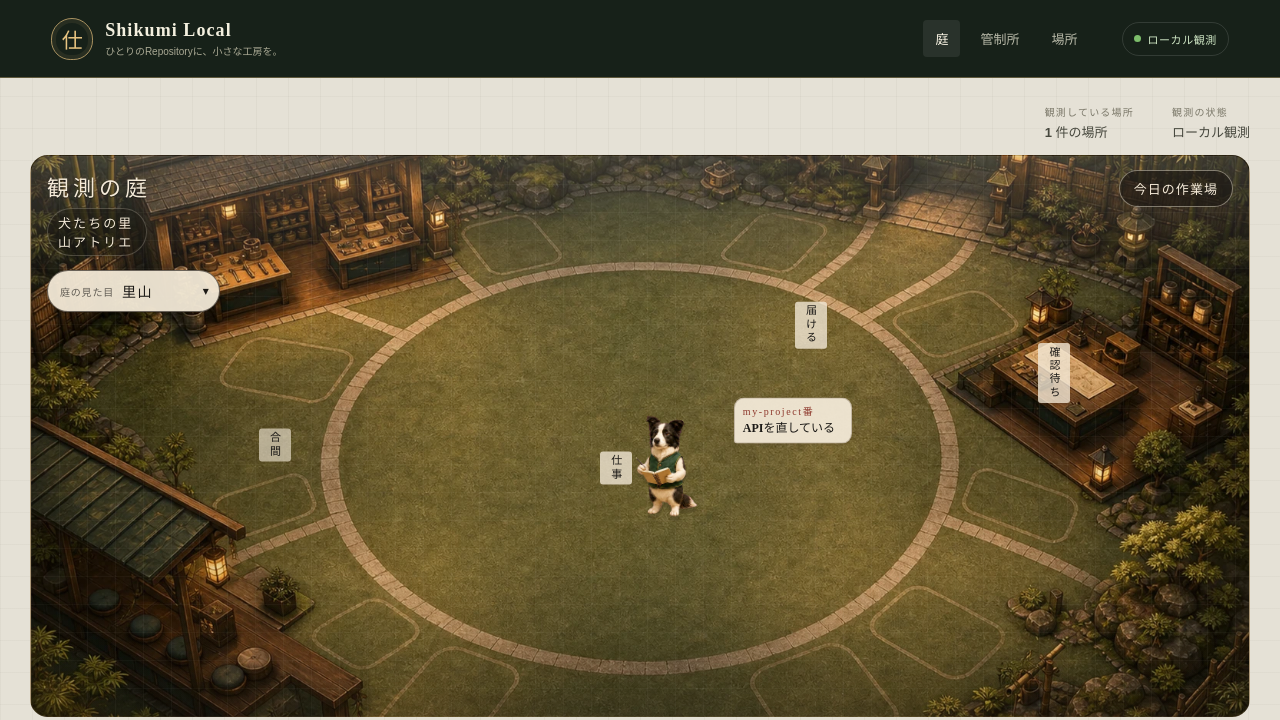
Shikumi Local garden › renders the mocked overview on the observation garden
Expected: the heading "観測の庭" is shown, [47, 176, 151, 201]
Expected: the text "my-project番" is shown, [743, 405, 814, 416]
Click the 7th button. click: (676, 462)
box: [616, 402, 736, 522]
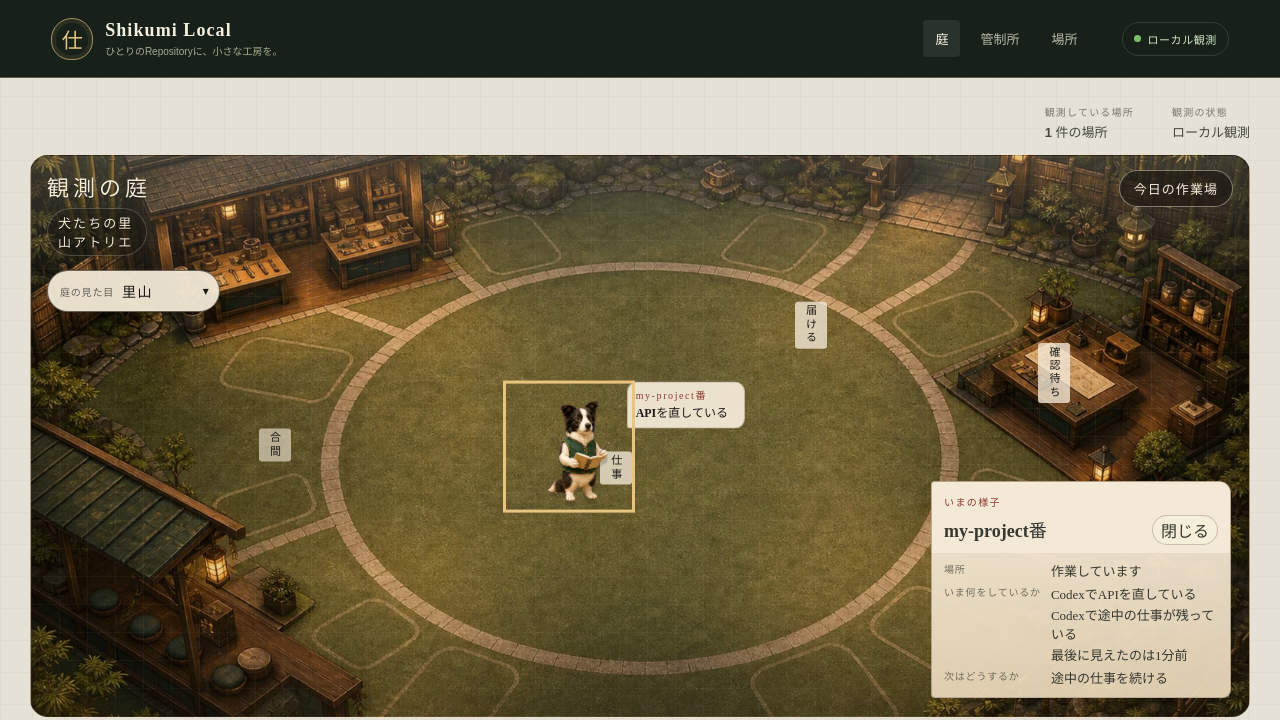
Expected: the element with test id "garden-inspect" shows "my-project番", [944, 521, 1047, 541]
Expected: the element with test id "garden-inspect" shows "APIを直している", [1051, 587, 1196, 602]
Expected: the element with test id "garden-inspect" shows "途中の仕事が残っている", [1051, 608, 1214, 642]
